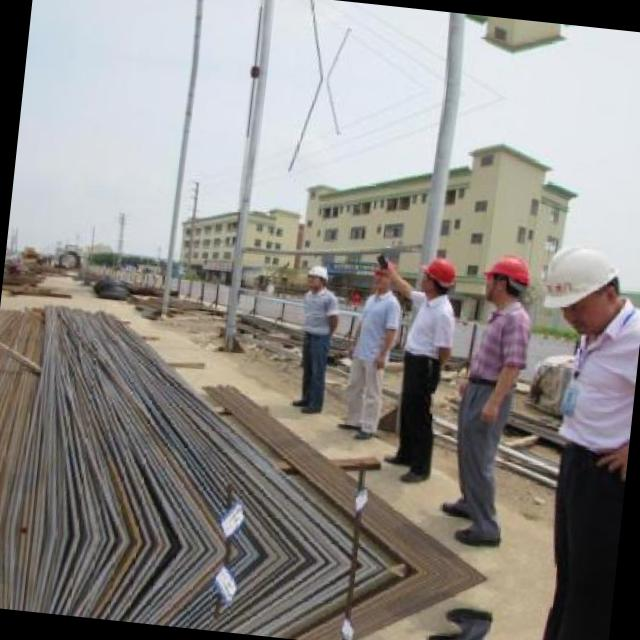helmet: (540, 236, 630, 339), (478, 248, 533, 308), (417, 252, 458, 300), (368, 254, 399, 294), (302, 260, 332, 292)
